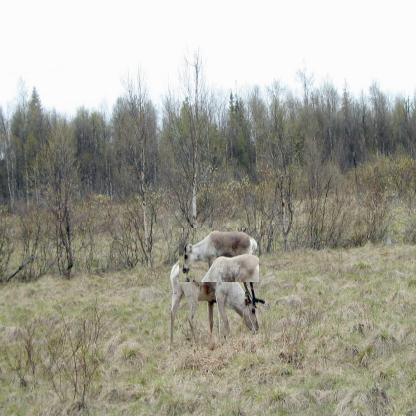Deer: (168, 252, 266, 351), (180, 228, 260, 282)
